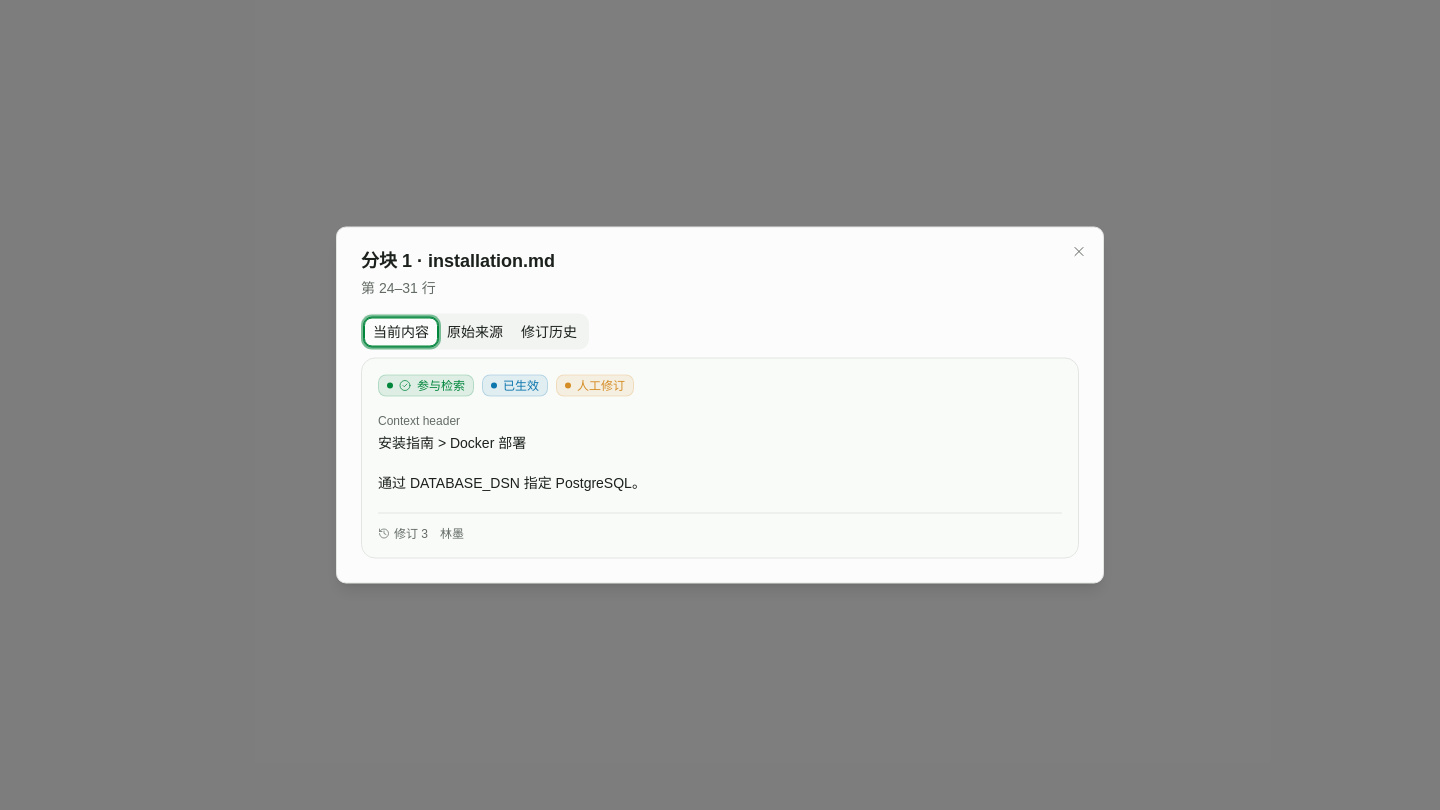
Scenario: ChunkDetailDialog › renders the empty history hint when no revisions are provided
Click the tab "修订历史" at coordinates (549, 332), box [512,317,586,346]
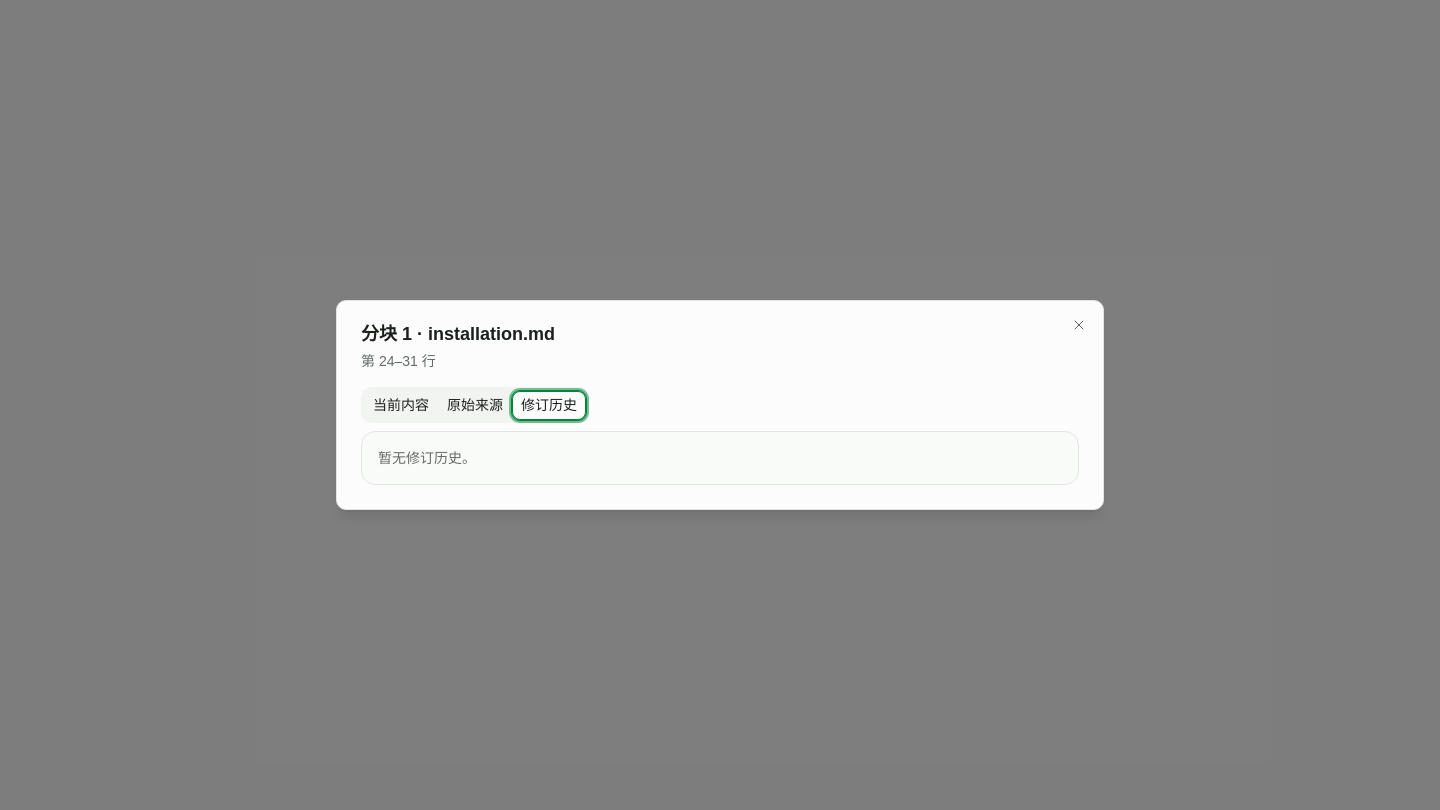
Now the text "暂无修订历史。" is shown, box [378,450,476,466]
